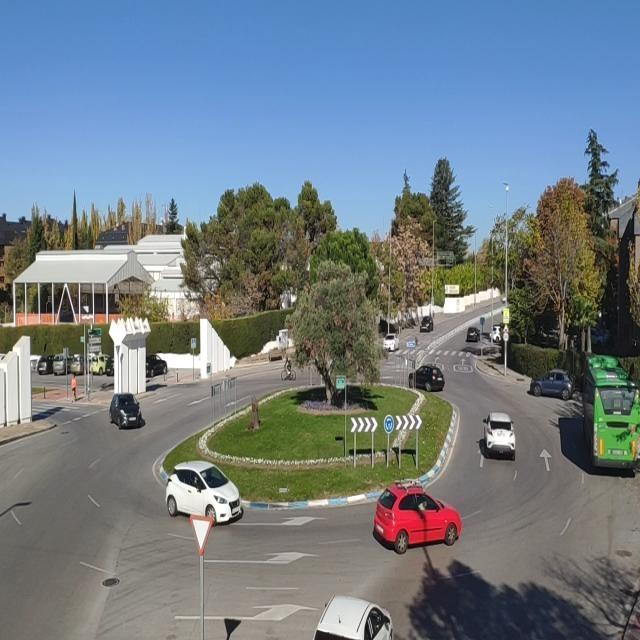Bus: (578, 352, 640, 476)
Car: (369, 478, 466, 552), (162, 461, 244, 527), (480, 411, 520, 460), (110, 391, 148, 438), (530, 371, 576, 400), (406, 362, 448, 393), (382, 334, 400, 354), (419, 316, 435, 336), (466, 326, 482, 344)
Cycle: (280, 356, 298, 384)
